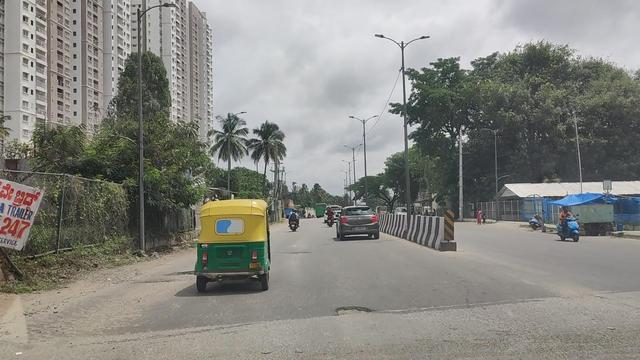LMV: (198, 200, 271, 287), (339, 207, 379, 237), (289, 211, 300, 229)
RoadDamages: (332, 297, 380, 324), (131, 268, 192, 286), (283, 246, 311, 260)
